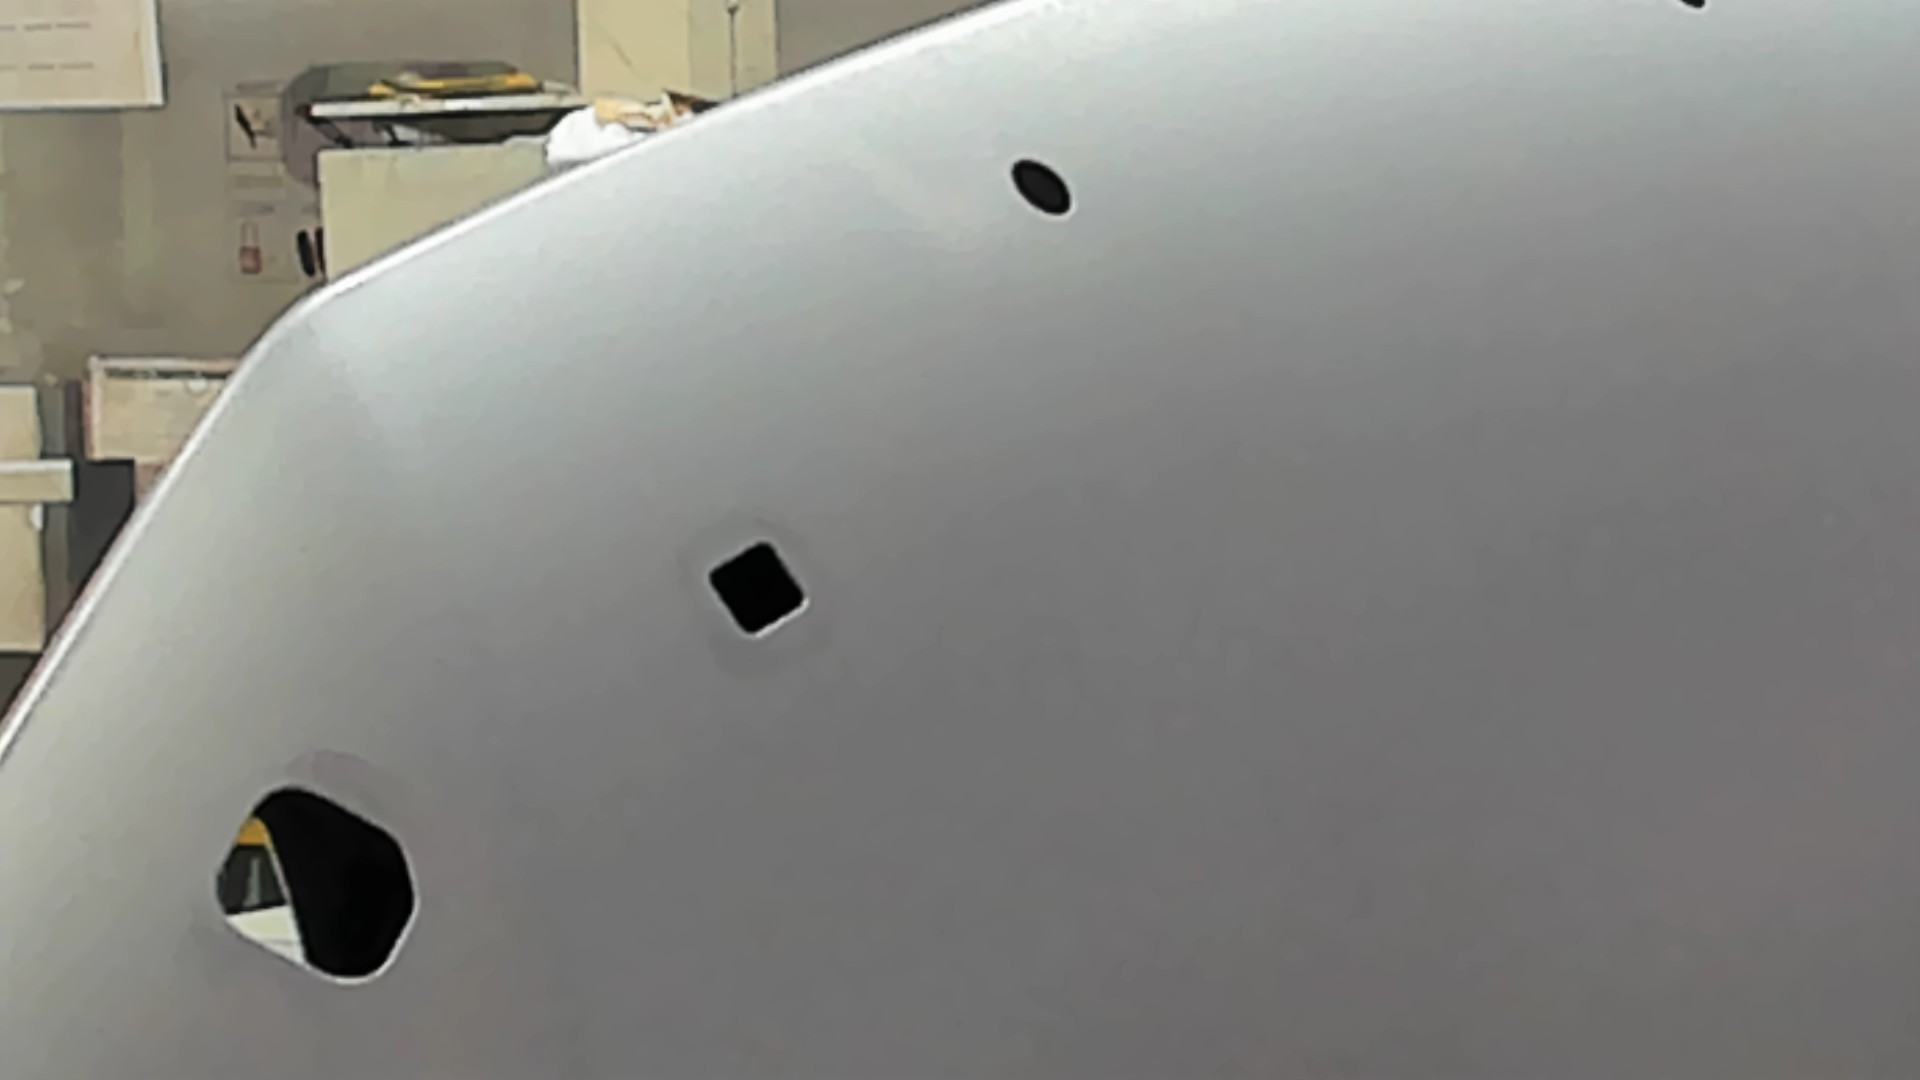Agujero: (705, 539, 808, 640), (1009, 156, 1073, 215)
Agujerote: (208, 785, 422, 984)
